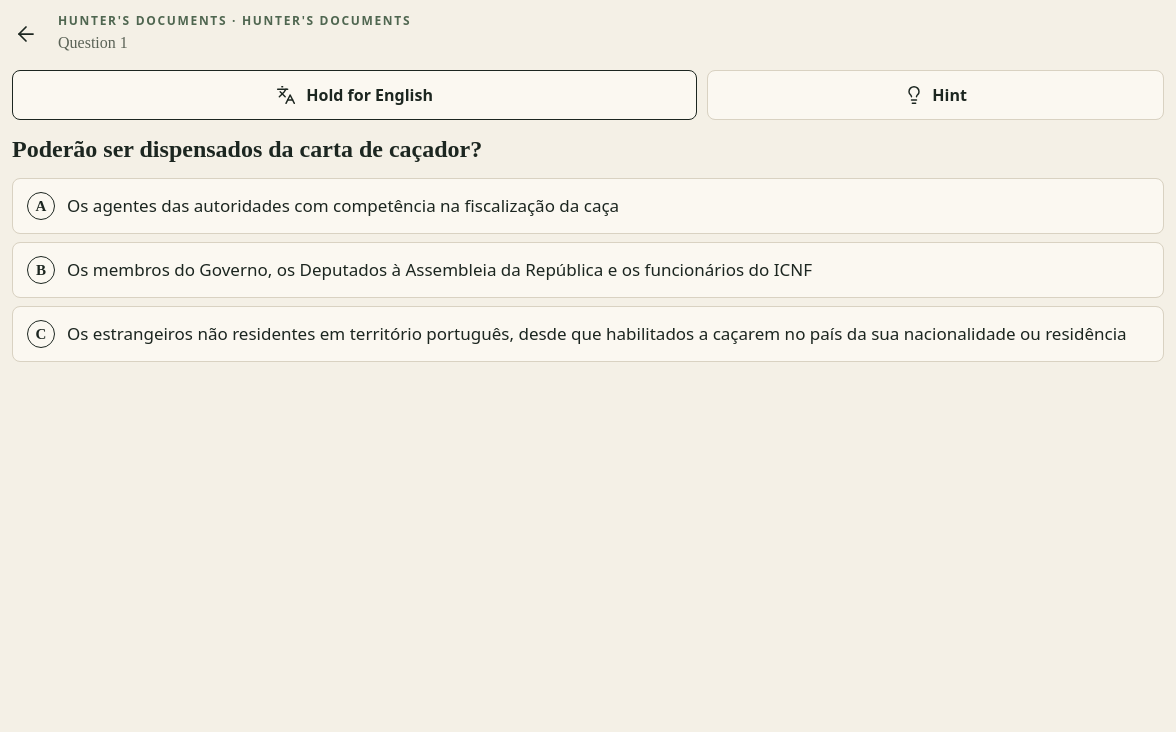
the flags row (D2) › a failed write whose re-read fails too shows the row as unknown, never as set (cac-eil.41)
What coordinates should you click on to do the following:
click the 3rd button
I would click on:
 (588, 206)
Its box is [12, 178, 1164, 234].
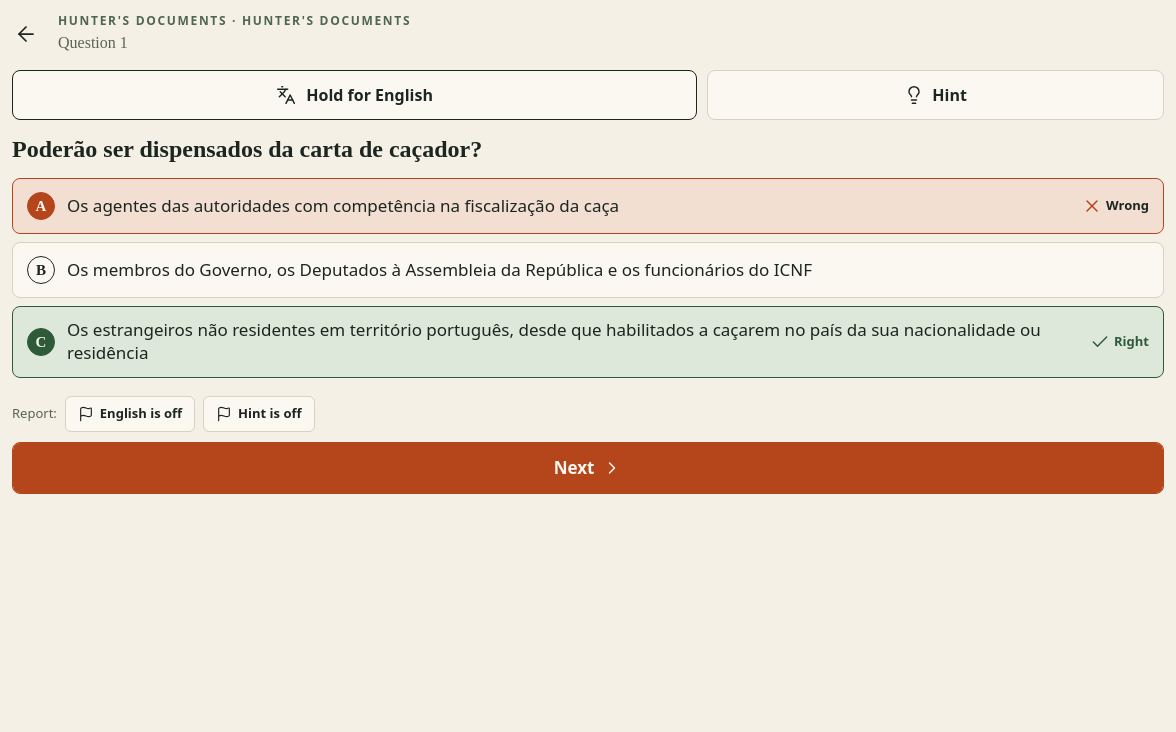
Now the button "Hint is off" is enabled
What coordinates should you click on to do the following:
click the button "Hint is off"
I would click on:
 (259, 414)
Its box is [203, 396, 314, 432].
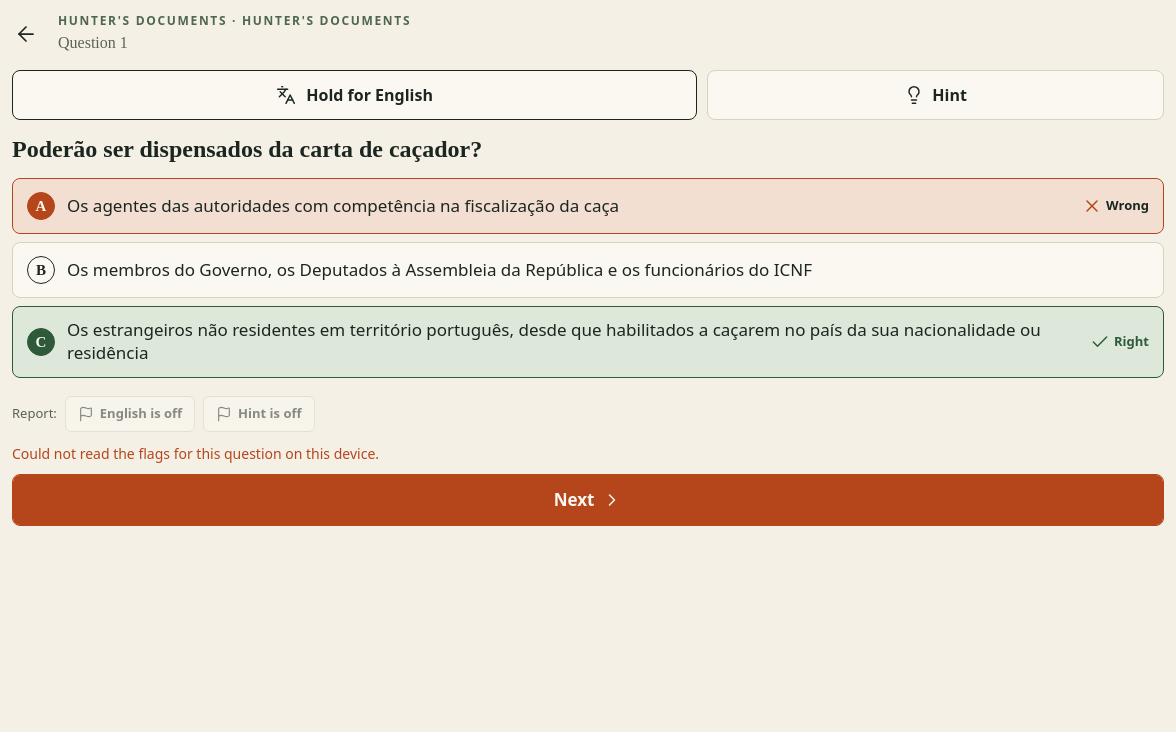
Now the button "Hint is off" is disabled, box [203, 396, 314, 432]
Now the button "English is off" is disabled, box [65, 396, 195, 432]
Now the text "Could not read the flags for this question on this device." is shown, box [12, 444, 379, 463]
